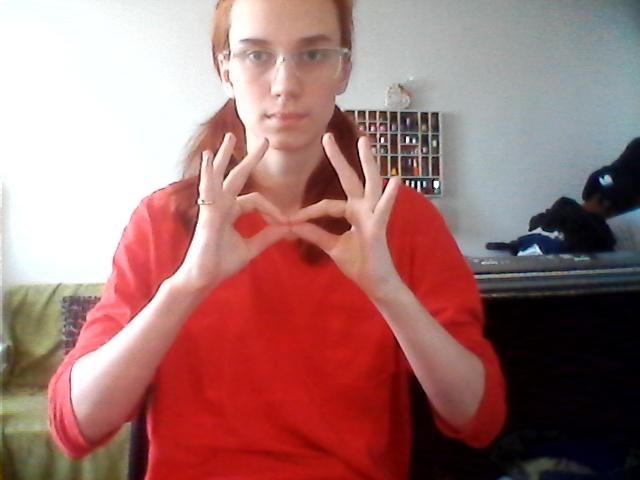b: (189, 131, 406, 301)
